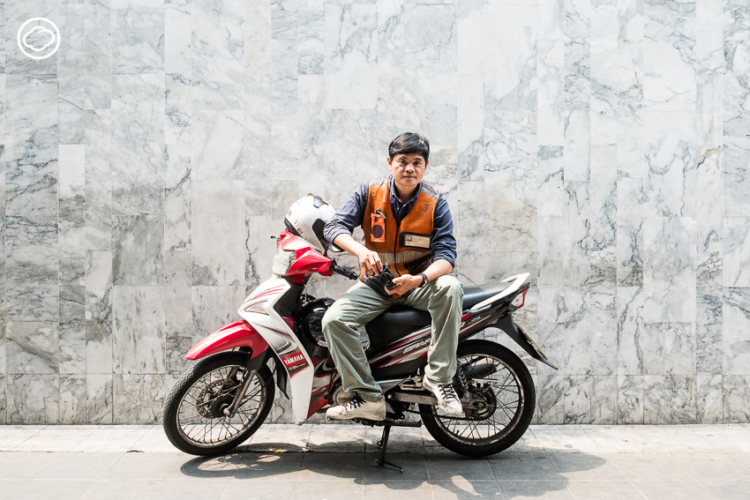helmet: (283, 193, 342, 260)
motorcycle: (161, 234, 561, 459)
